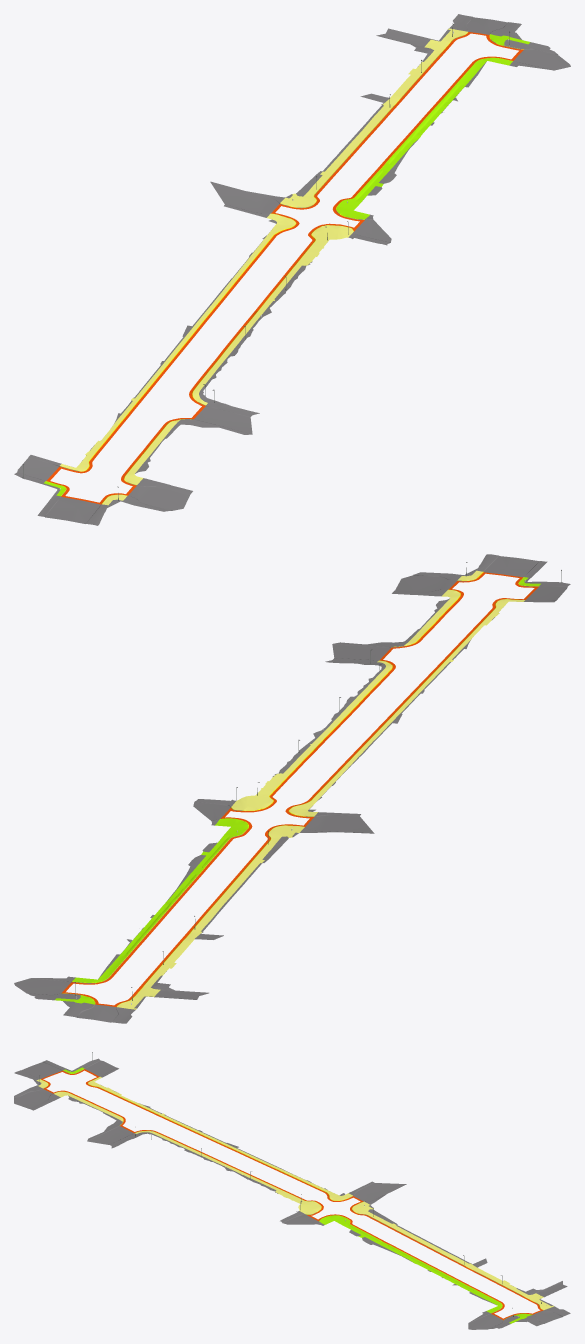
File: Agnes_Export.fbx
The picture shows the model from 3 angles, top to bottom: view 1: azimuth 30°, elevation 25°; view 2: azimuth 210°, elevation 25°; view 3: azimuth 270°, elevation 25°; orthographic projection. The views are drawn at different scales.
Parts seen in each view (by area): view 1: Mesh 5, Mesh 9, Mesh 7, Mesh 6, Mesh 8; view 2: Mesh 5, Mesh 9, Mesh 7, Mesh 6, Mesh 8; view 3: Mesh 5, Mesh 9, Mesh 7, Mesh 6, Mesh 8.
Boxes of the visible parts, left/top/right/bottom form: Mesh 5: left=14, top=14, right=570, bottom=525; Mesh 9: left=60, top=28, right=467, bottom=505; Mesh 7: left=46, top=32, right=523, bottom=504; Mesh 6: left=44, top=34, right=530, bottom=496; Mesh 8: left=46, top=32, right=523, bottom=503; Mesh 5: left=14, top=554, right=570, bottom=1023; Mesh 9: left=117, top=570, right=524, bottom=1009; Mesh 7: left=62, top=572, right=538, bottom=1006; Mesh 6: left=55, top=577, right=540, bottom=1004; Mesh 8: left=61, top=571, right=538, bottom=1006; Mesh 5: left=14, top=1058, right=570, bottom=1329; Mesh 9: left=36, top=1076, right=553, bottom=1309; Mesh 7: left=41, top=1069, right=543, bottom=1320; Mesh 6: left=63, top=1067, right=532, bottom=1323; Mesh 8: left=40, top=1069, right=542, bottom=1319.
Bounding box in the file's own units: 313 × 264 × 14.09.
7 materials, 5 textured.
